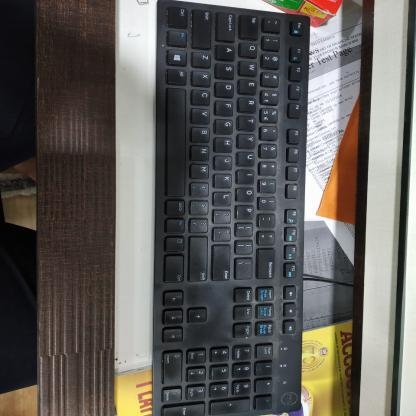mouse: (160, 1, 308, 416)
